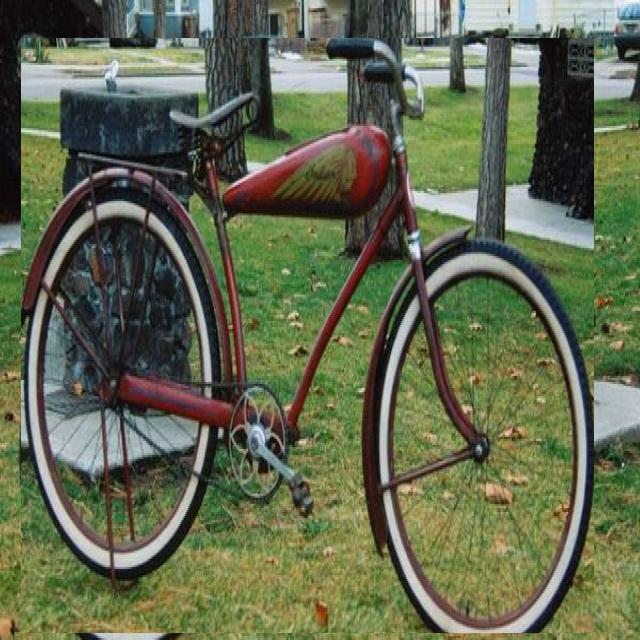bicycle: (21, 38, 594, 633)
